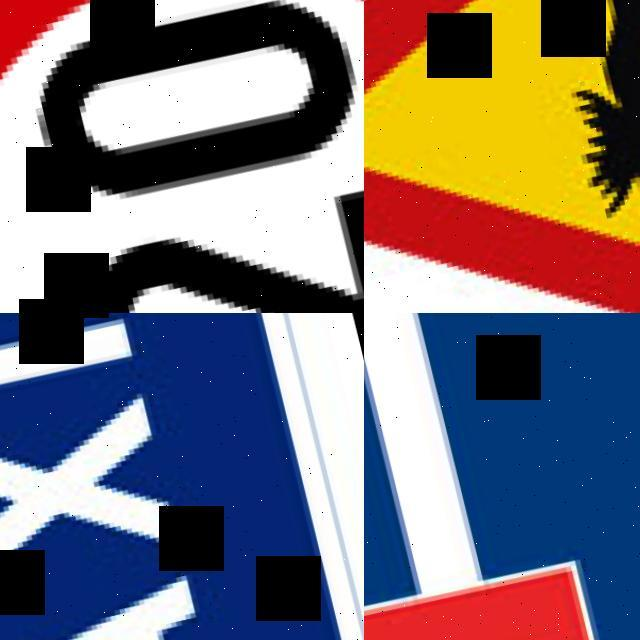123: (0, 313, 364, 640)
178: (364, 313, 640, 640)
speed-limit-120: (0, 0, 364, 313)
warning wild animal: (364, 0, 640, 313)
